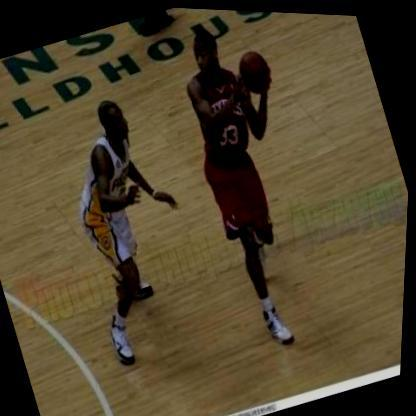basketball: (233, 42, 281, 100)
